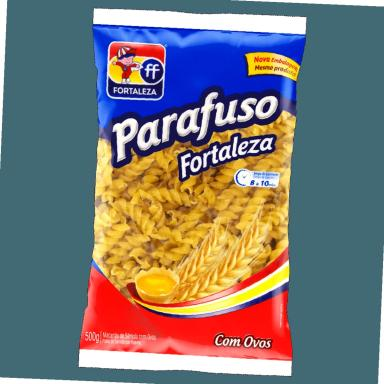pasta package: (80, 9, 305, 375)
